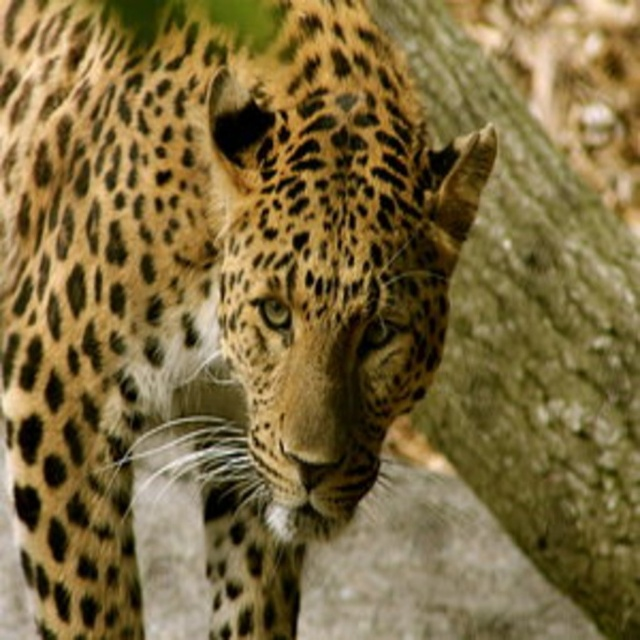Leopard: (0, 0, 497, 637)
